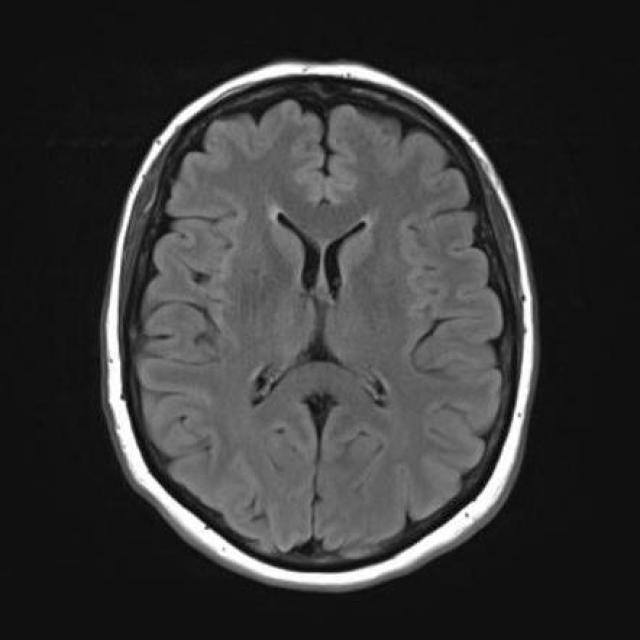no-tumor: (174, 171, 476, 481)
